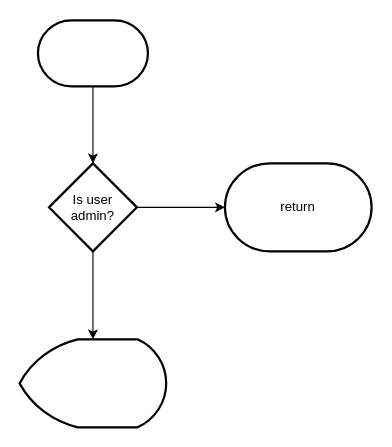
Some shapes in this 392 by 447 pixel diagram are drawn without their labels. Here are the shapes that lost their labels. From the top down, the centre of each, then its label:
At pixel 92 53: "On Page Open".
At pixel 92 383: "display admin icon button in appbar".
